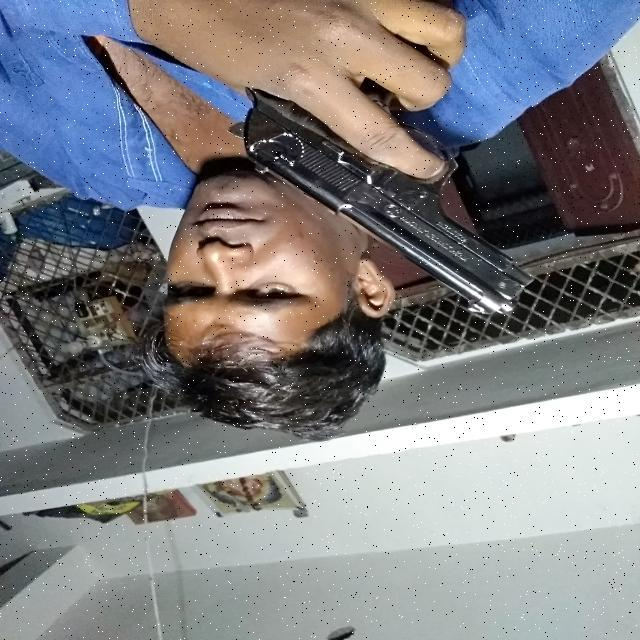gun: (218, 0, 551, 330)
